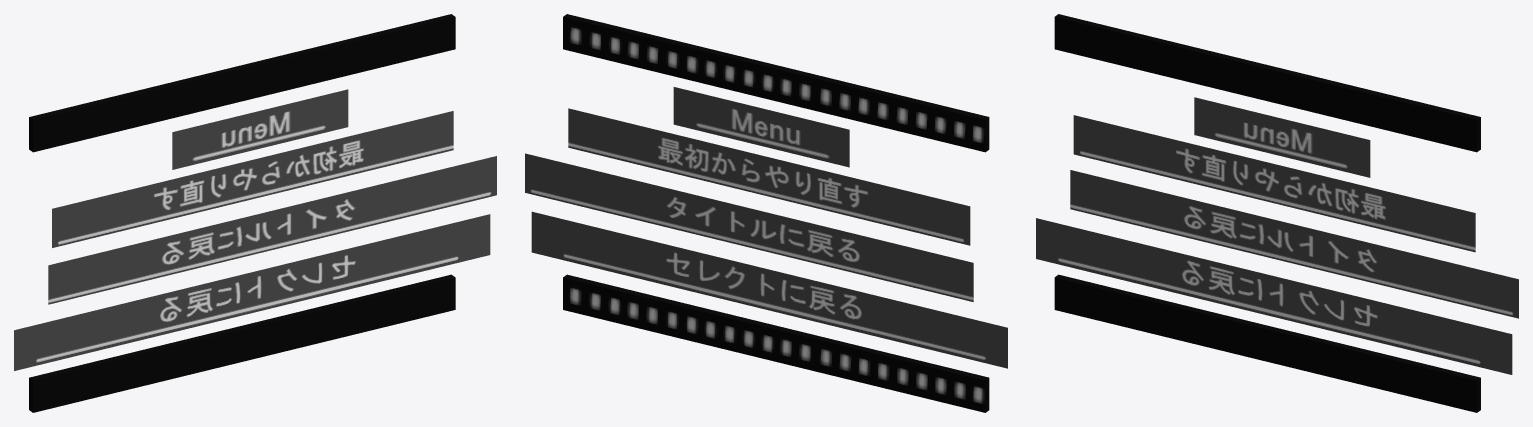
The model's file is Menu.obj.
The picture shows the model from 3 angles, left to right: view 1: azimuth 30°, elevation 25°; view 2: azimuth 150°, elevation 25°; view 3: azimuth 330°, elevation 25°; orthographic projection.
Parts seen in each view (by area): view 1: Rool, セレクトに戻る, タイトルに戻る, 最初からやり直す, Menu; view 2: Rool, セレクトに戻る, タイトルに戻る, 最初からやり直す, Menu; view 3: Rool, セレクトに戻る, タイトルに戻る, 最初からやり直す, Menu.
Part boxes in pixels (x1=…): Rool: x1=29, y1=14, x2=455, y2=412; セレクトに戻る: x1=14, y1=214, x2=490, y2=370; タイトルに戻る: x1=48, y1=156, x2=496, y2=304; 最初からやり直す: x1=52, y1=111, x2=453, y2=247; Menu: x1=172, y1=89, x2=348, y2=169; Rool: x1=563, y1=14, x2=989, y2=412; セレクトに戻る: x1=531, y1=211, x2=1007, y2=368; タイトルに戻る: x1=525, y1=153, x2=973, y2=301; 最初からやり直す: x1=568, y1=108, x2=970, y2=245; Menu: x1=673, y1=87, x2=849, y2=167; Rool: x1=1054, y1=14, x2=1480, y2=412; セレクトに戻る: x1=1036, y1=218, x2=1512, y2=374; タイトルに戻る: x1=1070, y1=170, x2=1518, y2=318; 最初からやり直す: x1=1073, y1=115, x2=1475, y2=252; Menu: x1=1194, y1=97, x2=1370, y2=177.
Size of the model in its own units: 1.71 by 0.9931 by 0.0246.
2 materials, 2 textured.
